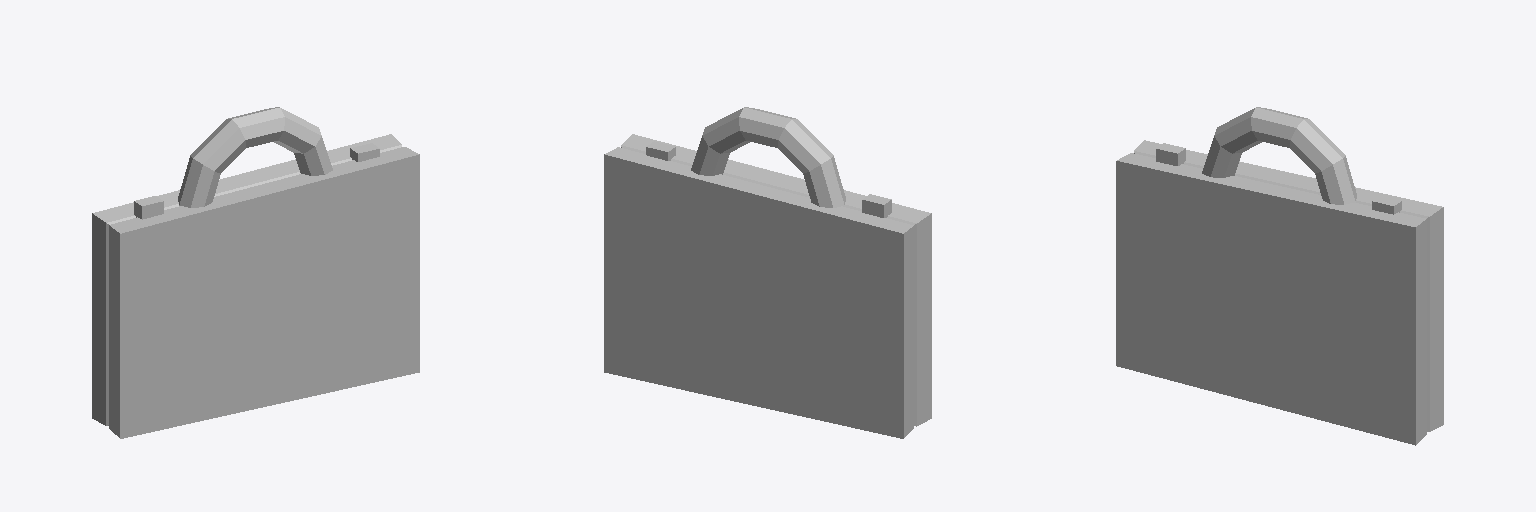
Rendered from briefcase.obj.
3 renders of one model, left to right at view 1: azimuth 30°, elevation 25°; view 2: azimuth 150°, elevation 25°; view 3: azimuth 330°, elevation 25°, orthographic.
Parts seen in each view (by area): view 1: briefcase:briefcase; view 2: briefcase:briefcase; view 3: briefcase:briefcase.
Part boxes in pixels (left/top/right/bottom): briefcase:briefcase: left=92, top=107, right=419, bottom=438; briefcase:briefcase: left=604, top=107, right=931, bottom=438; briefcase:briefcase: left=1116, top=107, right=1443, bottom=445.
Size of the model in its own units: 1.05 by 0.9588 by 0.1707.